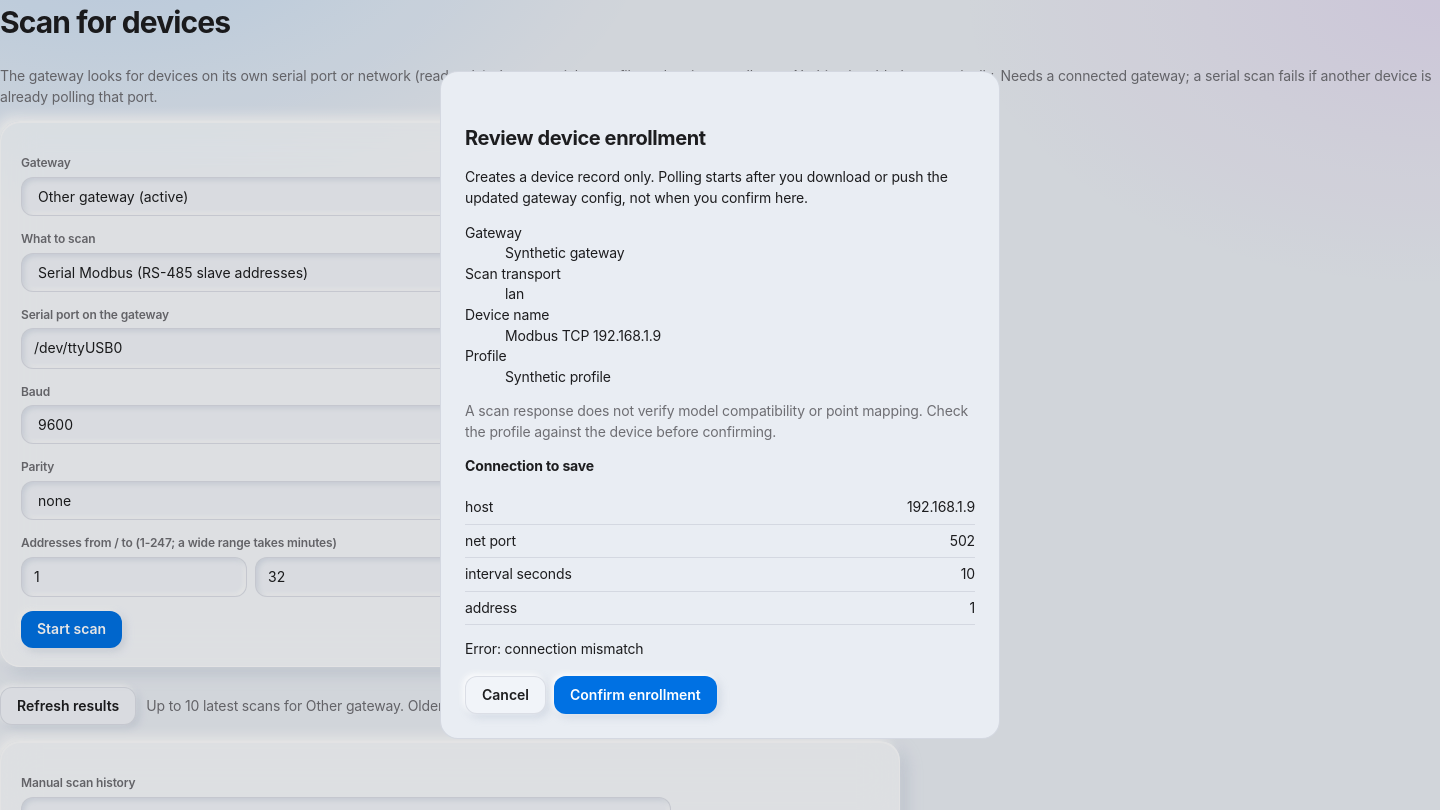
Test: enrollment requires explicit profile, review and confirmation; cancel makes no write and failed confirm stays open
Earlier steps of the test are not shown.
Later steps or results of the test are not shown.
Expected: the dialog shows "Synthetic gateway", [505,244,624,261]
Expected: the dialog does not show "Other gateway"
Step 1. Click the button "Confirm enrollment" → [635, 695], box [554,676,717,714]
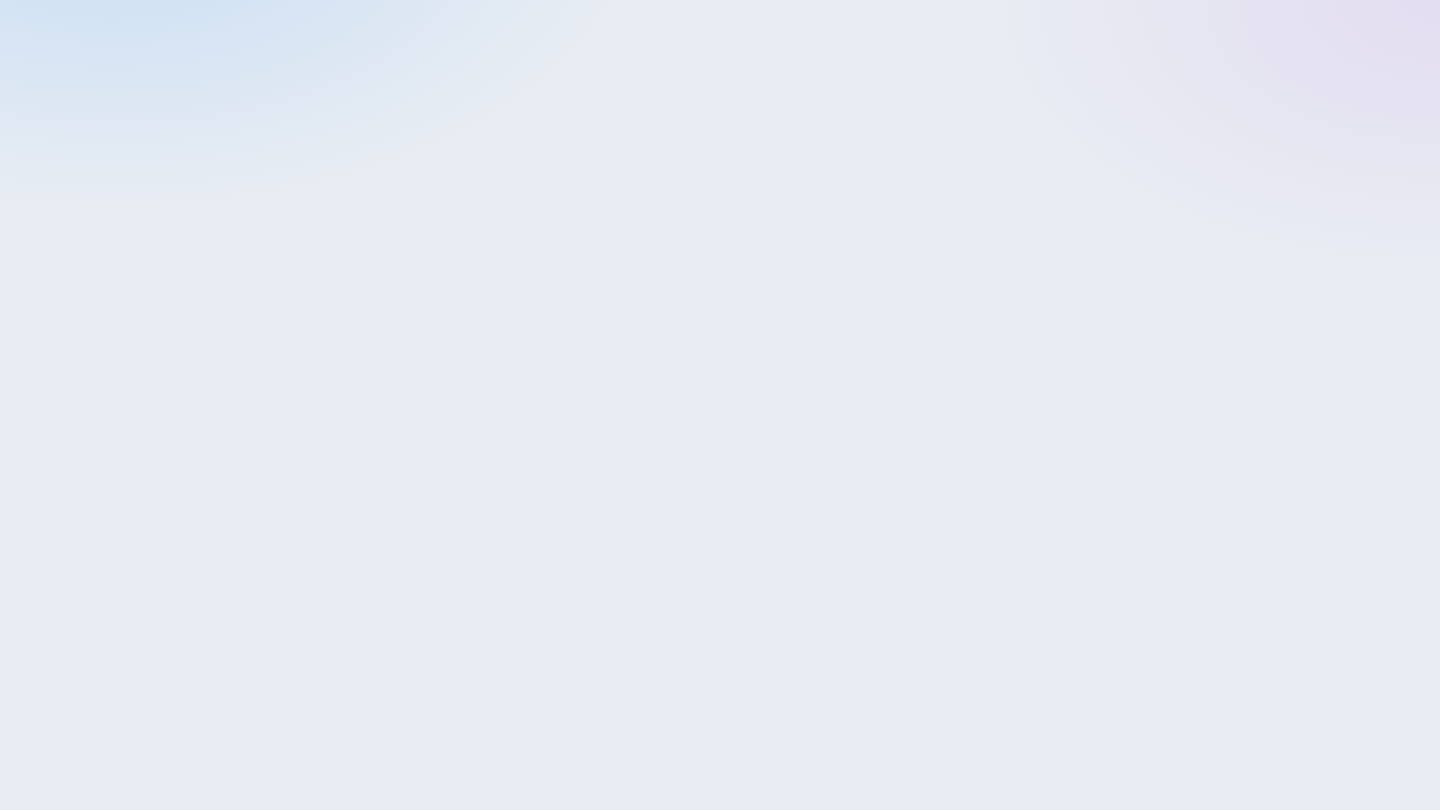
Now the dialog is gone
